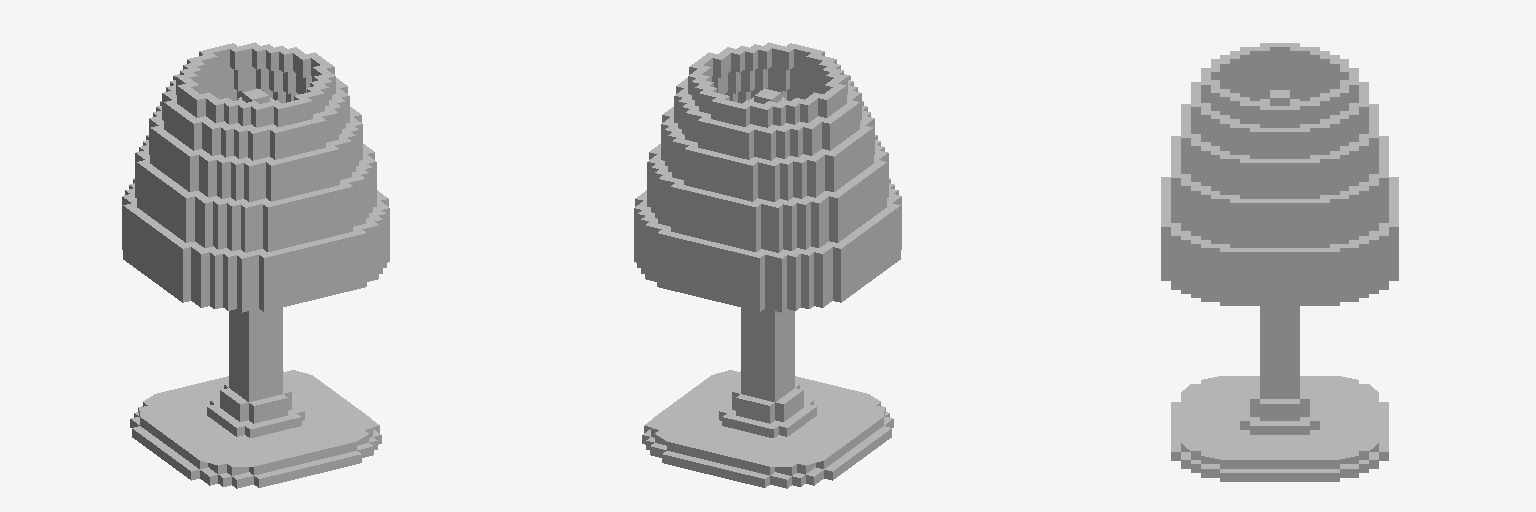
Rendered from Desk Lamp Of Suffering.obj.
3 renders of one model, left to right at view 1: azimuth 30°, elevation 25°; view 2: azimuth 150°, elevation 25°; view 3: azimuth 270°, elevation 25°, orthographic.
Visible parts, largest first — view 1: Lamp; view 2: Lamp; view 3: Lamp.
Part boxes in pixels (bbox=[...]): Lamp: bbox=[122, 42, 389, 488]; Lamp: bbox=[634, 42, 901, 488]; Lamp: bbox=[1161, 43, 1398, 481].
Size of the model in its own units: 34.3 by 57.17 by 34.3.